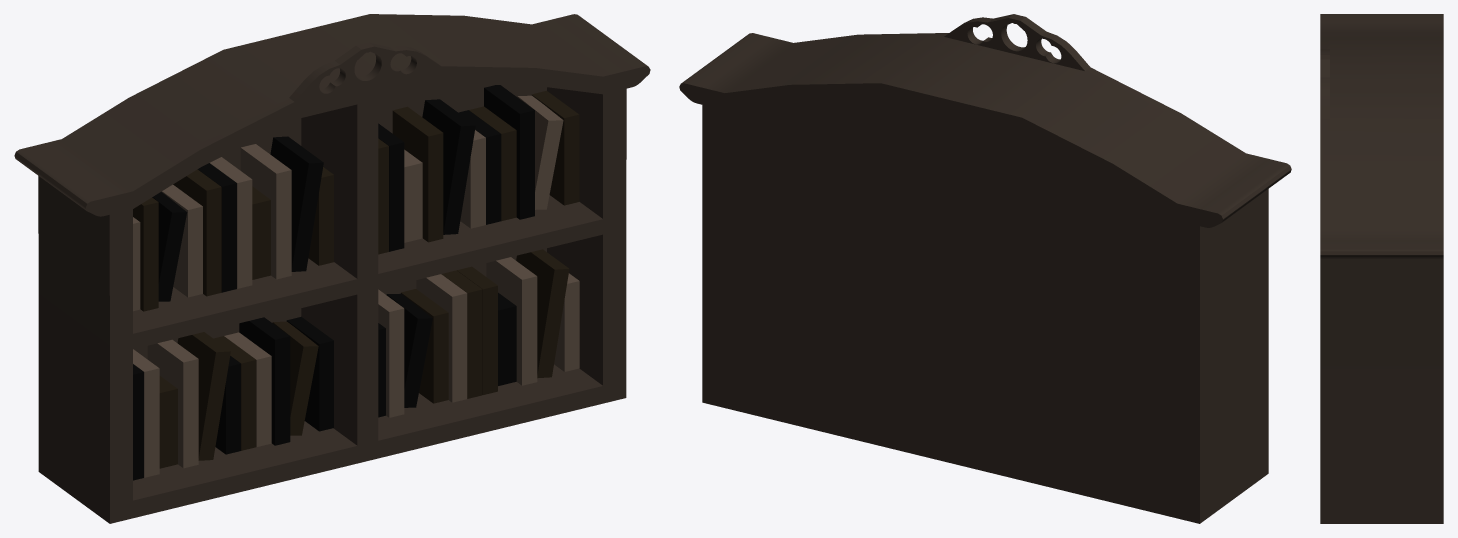
File: bookshelf.fbx
3 renders of one model, left to right at view 1: azimuth 30°, elevation 25°; view 2: azimuth 150°, elevation 25°; view 3: azimuth 270°, elevation 25°, orthographic. The views are drawn at different scales.
Parts seen in each view (by area): view 1: polySurface3, pCube9, pCube47, pCube48, pCube8, pCube34, pCube19, pCube20, pCube35, pCube4, pCube24, pCube31 (+33 smaller); view 2: polySurface3; view 3: polySurface3.
Boxes of the visible parts, x1,y1,x2,y2 form: polySurface3: (14,14,650,523); pCube9: (392,106,443,242); pCube47: (240,144,291,279); pCube48: (270,136,323,271); pCube8: (422,99,475,234); pCube34: (486,257,537,385); pCube19: (147,339,198,468); pCube20: (177,332,230,460); pCube35: (516,249,569,378); pCube4: (484,85,534,219); pCube24: (239,317,290,445); pCube31: (416,274,467,402); polySurface3: (679,14,1291,523); polySurface3: (1320,14,1443,523).
Size of the model in its own units: 10.61 by 7.41 by 2.32.
